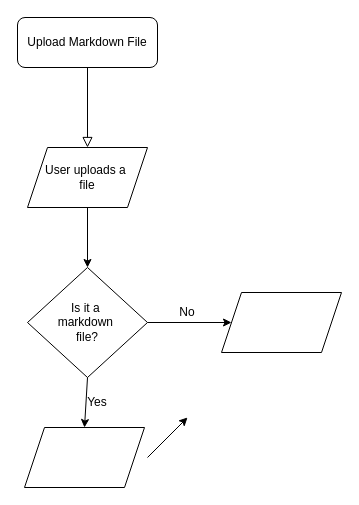
Image size: 359x505. Some labels were removed from this diagram. The box of each missing label's shape, as (x1, y1, x2, y2) in pixels:
File accepted: (24, 426, 144, 488)
File not accepted: (220, 292, 342, 352)
